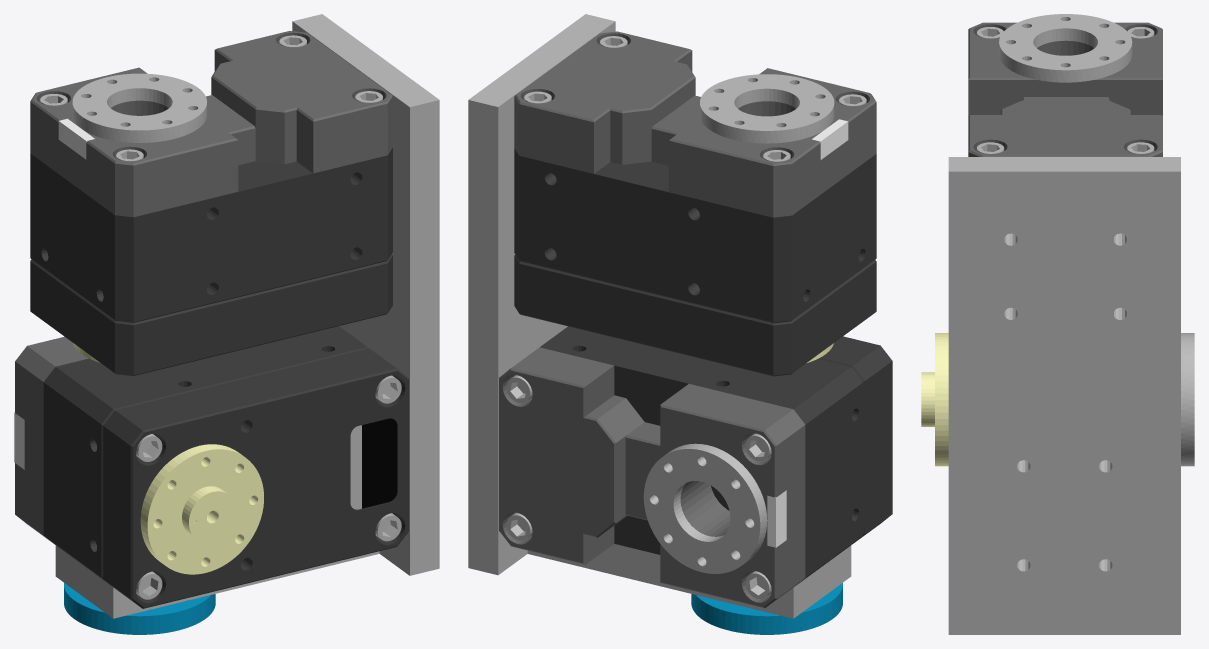
Rendered from HIP_Servo.obj.
3 renders of one model, left to right at view 1: azimuth 30°, elevation 25°; view 2: azimuth 150°, elevation 25°; view 3: azimuth 270°, elevation 25°, orthographic.
Size of the model in its own units: 5.15 by 8.15 by 4.
